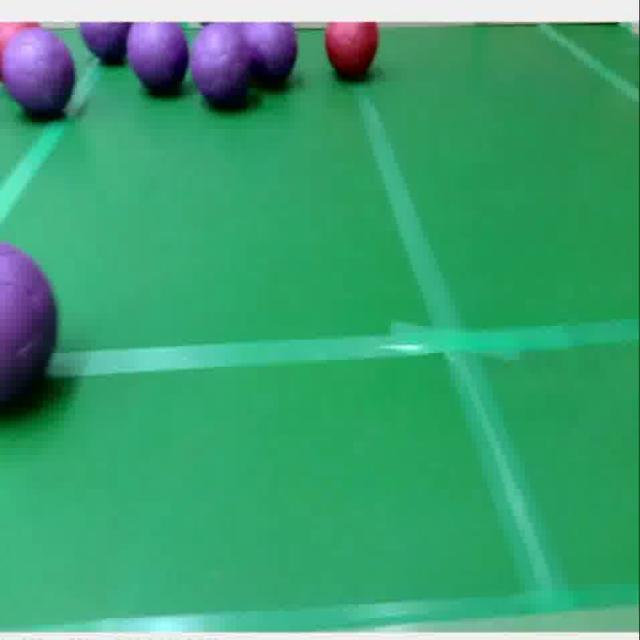purple_ball: (0, 246, 54, 407), (0, 26, 79, 117), (193, 24, 250, 109), (242, 24, 300, 92), (133, 25, 190, 93), (82, 22, 133, 66)
red_ball: (323, 23, 382, 82)
